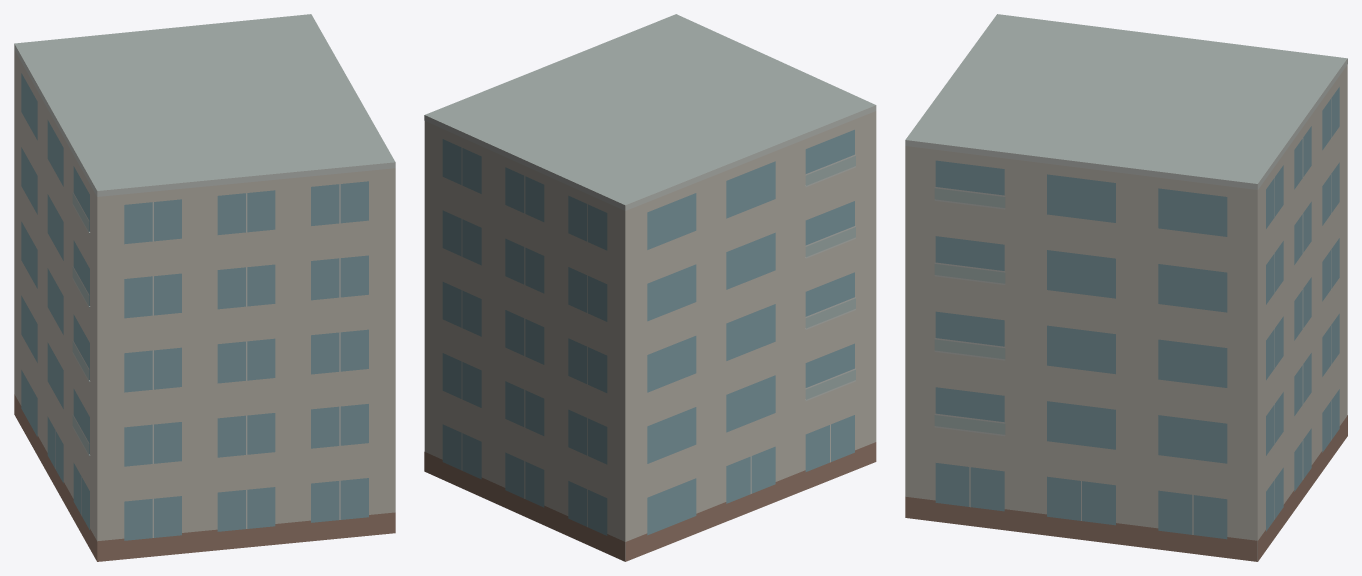
Rendered from survey-upis-32876941.glb.
The picture shows the model from 3 angles, left to right: view 1: azimuth 30°, elevation 25°; view 2: azimuth 150°, elevation 25°; view 3: azimuth 270°, elevation 25°; orthographic projection. The views are drawn at different scales.
Visible parts, largest first — view 1: survey-upis-32876941.tmp; view 2: survey-upis-32876941.tmp; view 3: survey-upis-32876941.tmp.
Boxes of the visible parts, x1,y1,x2,y2 form: survey-upis-32876941.tmp: (14, 14, 395, 561); survey-upis-32876941.tmp: (424, 14, 876, 561); survey-upis-32876941.tmp: (905, 14, 1347, 561).
Size of the model in its own units: 14.78 by 15.3 by 16.25.
